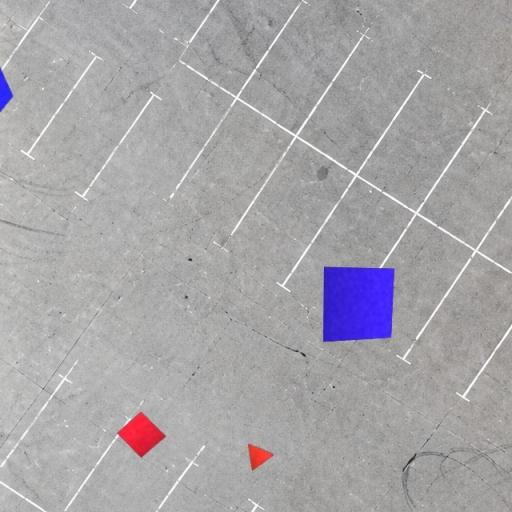BLUE_SQUARE: (324, 266, 394, 342)
RED_SQUARE: (117, 412, 166, 458)
